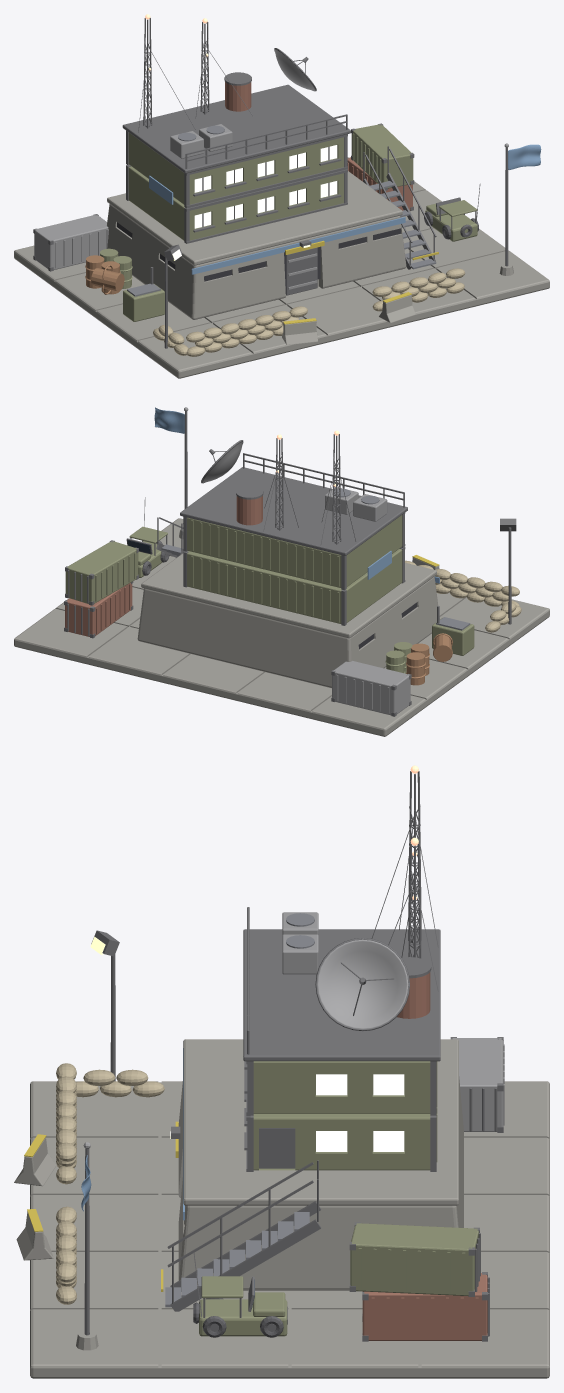
3 views of the same model, one above another, from view 1: azimuth 30°, elevation 25°; view 2: azimuth 150°, elevation 25°; view 3: azimuth 270°, elevation 25° (orthographic). The views are drawn at different scales.
Visible parts, largest first — view 1: Headquarters, Dish; view 2: Headquarters, Dish; view 3: Headquarters, Dish.
Boxes of the visible parts, left/top/right/bottom form: Headquarters: left=14, top=18, right=549, bottom=378; Dish: left=274, top=48, right=316, bottom=91; Headquarters: left=14, top=407, right=549, bottom=736; Dish: left=201, top=440, right=243, bottom=483; Headquarters: left=14, top=771, right=549, bottom=1378; Dish: left=315, top=938, right=409, bottom=1031.
Size of the model in its own units: 13.24 by 8.71 by 10.31.
